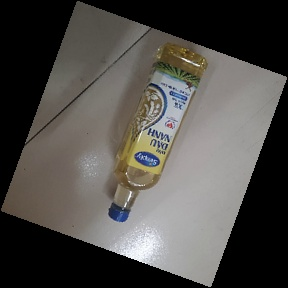Simply: (107, 43, 208, 223)
